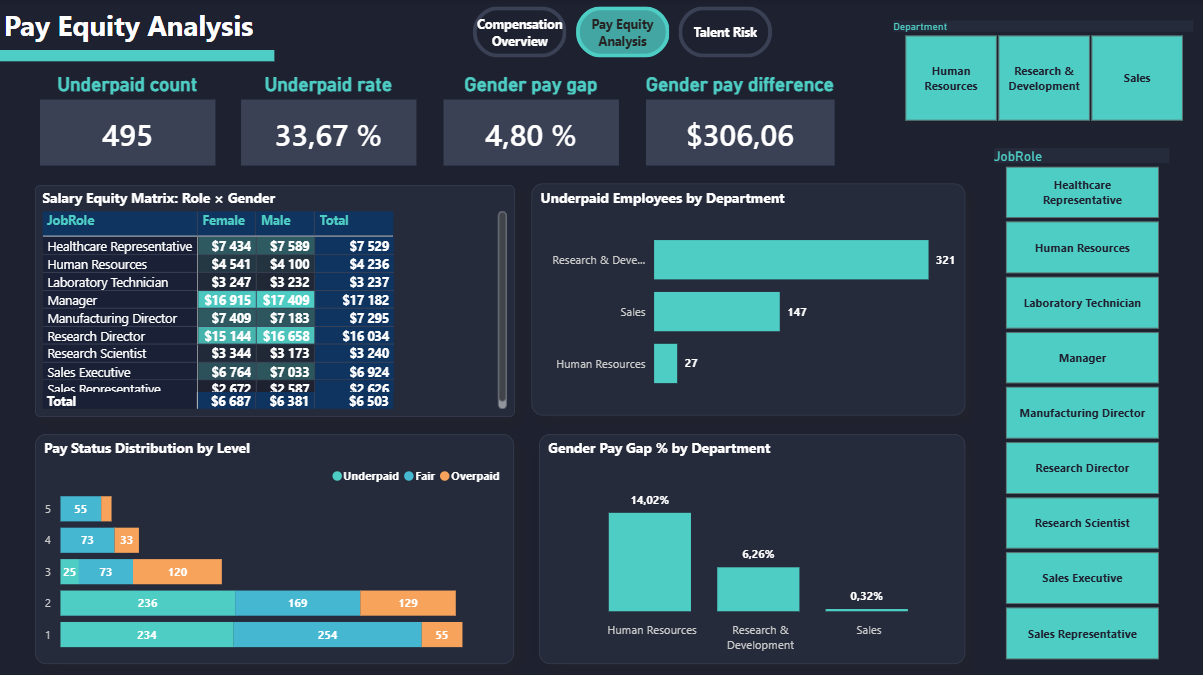

The dashboard page shown, as its layout file describes it:
{"tool":"powerbi","page":{"name":"Pay Equity Analysis","canvas":[1280,720],"ordinal":1},"visuals":[{"type":"cardVisual","title":"Underpaid count","fields":{"Data":["_Measures.Underpaid Count"]},"box":[38,78,196,104],"z":0},{"type":"cardVisual","title":"Underpaid rate","fields":{"Data":["_Measures.Underpaid Rate"]},"box":[252,78,196,104],"z":1000},{"type":"cardVisual","title":"Gender pay difference","fields":{"Data":["_Measures.Gender Pay Gap Absolute"]},"box":[680,78,210,104],"z":2000},{"type":"cardVisual","title":"Gender pay gap","fields":{"Data":["_Measures.Gender Pay Gap Pct Absolute"]},"box":[466,78,196,104],"z":3000},{"type":"pivotTable","title":"Salary Equity Matrix: Role × Gender","fields":{"Rows":["HR_Compensation.JobRole"],"Columns":["HR_Compensation.Gender"],"Values":["_Measures.Avg Monthly Income"]},"box":[37.8,196.5,508.4,245.7],"z":4000},{"type":"barChart","title":"Underpaid Employees by Department","fields":{"Category":["HR_Compensation.Department"],"Y":["_Measures.Underpaid Count"]},"box":[564,196,460,246],"z":5000},{"type":"barChart","title":"Pay Status Distribution by Level","fields":{"Category":["HR_Compensation.JobLevel"],"Y":["_Measures.Total Employees"],"Series":["HR_Compensation.pay_status"]},"box":[38,462,508,244],"z":6000},{"type":"columnChart","title":"Gender Pay Gap % by Department","fields":{"Category":["HR_Compensation.Department"],"Y":["_Measures.Gender Pay Gap Pct Absolute"]},"box":[572,462,452,244],"z":7000},{"type":"textbox","title":"Pay Equity Analysis","box":[0,8,572,46],"z":8000},{"type":"slicer","fields":{"Values":["HR_Compensation.Department"]},"box":[936,18,344,118],"z":9000},{"type":"slicer","fields":{"Values":["HR_Compensation.JobRole"]},"box":[1042,152,212,554],"z":10000},{"type":"shape","box":[0,54,292,12],"z":13000},{"type":"pageNavigator","title":"page 1 ","box":[502,8,318,54],"z":14000}]}

Visuals, with their boxes in screenshot pixels (x1, y1, x2, y2), scaled from the page's 1280x720 canvas onto the 1203x675 screenshot:
"Underpaid count" cardVisual: 36,73,220,171
"Underpaid rate" cardVisual: 237,73,421,171
"Gender pay difference" cardVisual: 639,73,836,171
"Gender pay gap" cardVisual: 438,73,622,171
"Salary Equity Matrix: Role × Gender" pivotTable: 36,184,513,415
"Underpaid Employees by Department" barChart: 530,184,962,414
"Pay Status Distribution by Level" barChart: 36,433,513,662
"Gender Pay Gap % by Department" columnChart: 538,433,962,662
"Pay Equity Analysis" textbox: 0,8,538,51
slicer - HR_Compensation.Department: 880,17,1202,128
slicer - HR_Compensation.JobRole: 979,142,1179,662
shape: 0,51,274,62
"page 1 " pageNavigator: 472,8,771,58
